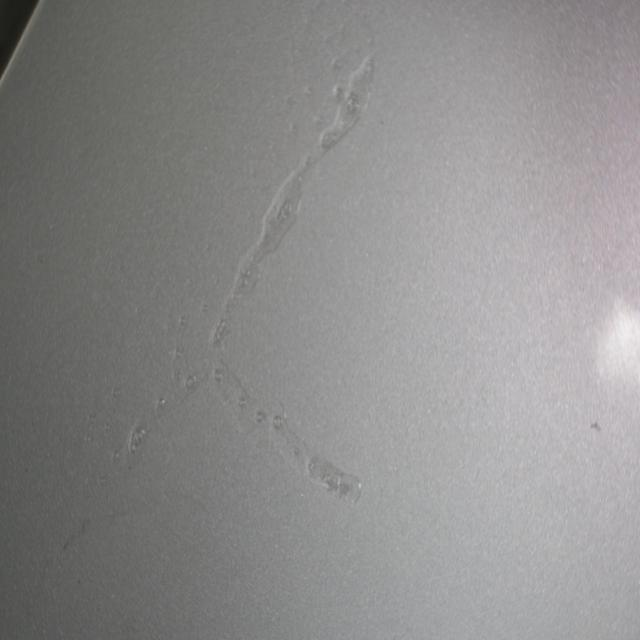runs: (104, 60, 375, 507)
